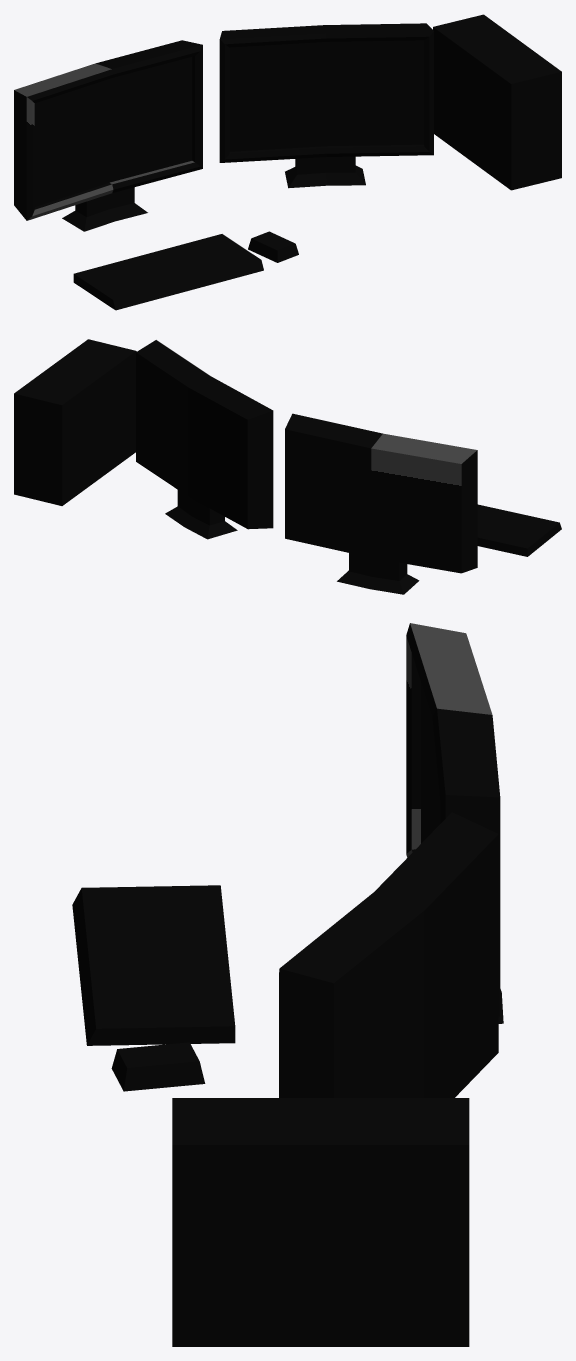
File: computergaming.obj
The picture shows the model from 3 angles, top to bottom: view 1: azimuth 30°, elevation 25°; view 2: azimuth 150°, elevation 25°; view 3: azimuth 270°, elevation 25°; orthographic projection. The views are drawn at different scales.
Parts seen in each view (by area): view 1: screenoff, cube, cube_translucent, keyboard, mouse; view 2: cube, cube_translucent, keyboard; view 3: cube_translucent, cube, keyboard, mouse, screenoff.
Part boxes in pixels (left/top/right/bottom): screenoff: left=34, top=40, right=423, bottom=206; cube: left=14, top=23, right=433, bottom=231; cube_translucent: left=433, top=14, right=561, bottom=190; keyboard: left=73, top=234, right=263, bottom=310; mouse: left=248, top=231, right=298, bottom=262; cube: left=136, top=340, right=477, bottom=594; cube_translucent: left=14, top=339, right=136, bottom=505; keyboard: left=477, top=504, right=561, bottom=556; cube_translucent: left=172, top=1098, right=469, bottom=1346; cube: left=279, top=623, right=503, bottom=1097; keyboard: left=72, top=885, right=235, bottom=1045; mouse: left=111, top=1042, right=205, bottom=1091; screenoff: left=421, top=682, right=440, bottom=843.
Size of the model in its own units: 1.76 by 0.5312 by 0.7259.
